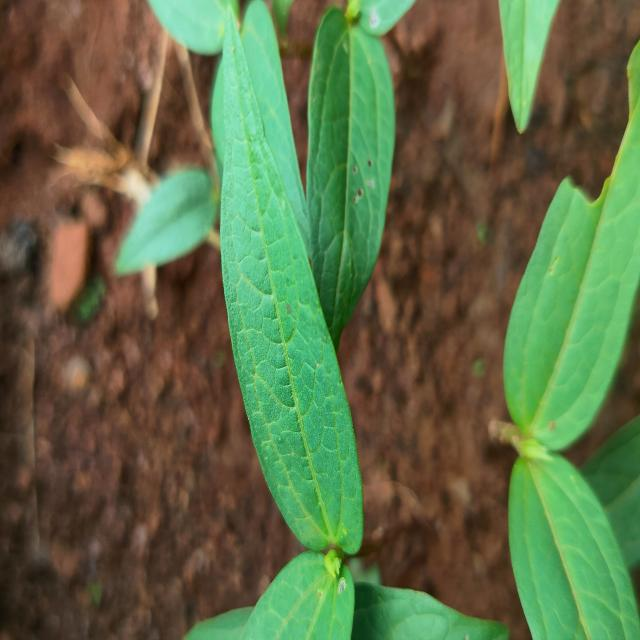Black gram_healthy: (217, 12, 365, 562), (310, 12, 396, 338), (506, 431, 640, 640)
